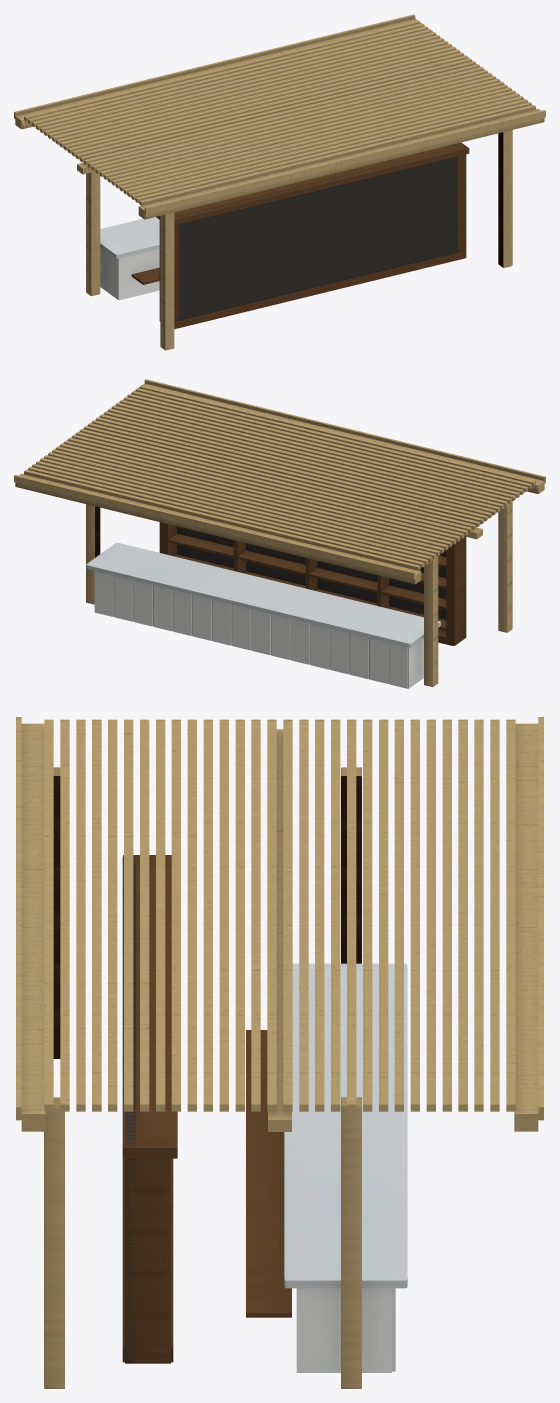
File: swim_up_bar.glb
3 renders of one model, top to bottom at view 1: azimuth 30°, elevation 25°; view 2: azimuth 150°, elevation 25°; view 3: azimuth 270°, elevation 25°, orthographic. The views are drawn at different scales.
Visible parts, largest first — view 1: swim_up_bar; view 2: swim_up_bar; view 3: swim_up_bar.
Boxes of the visible parts, x1,y1,x2,y2 form: swim_up_bar: (14, 14, 545, 350); swim_up_bar: (14, 379, 545, 688); swim_up_bar: (16, 717, 543, 1388).
Bounding box in the file's own units: 8.4 × 3.08 × 4.8.
1 material, 1 textured.
